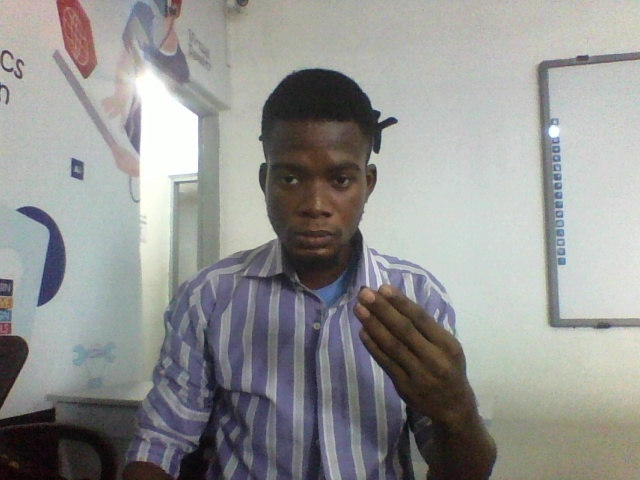thanks: (338, 279, 507, 430)
